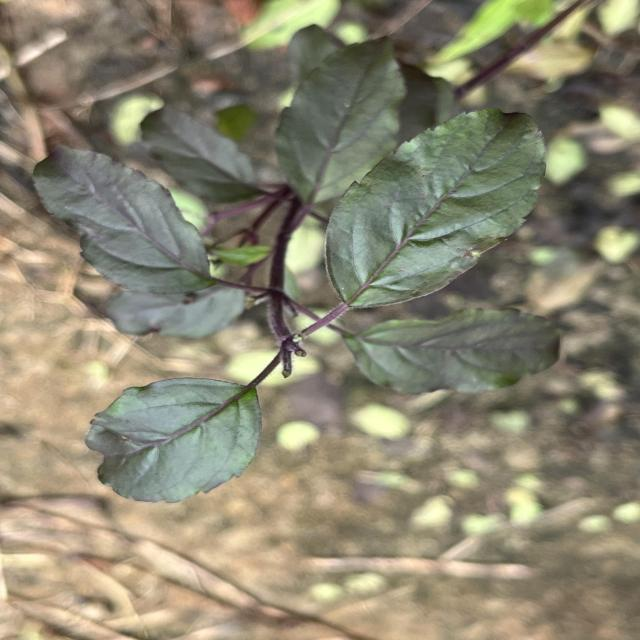Ocimum tenuiflorum: (323, 104, 549, 310), (84, 376, 266, 504)
